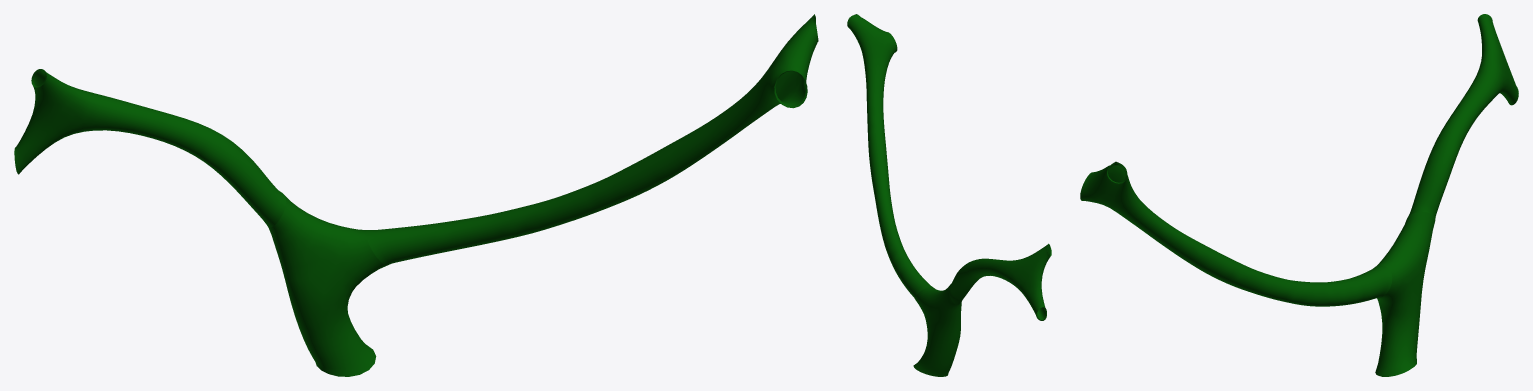
The model's file is VH_M_Ducts_of_Liver.fbx.
3 renders of one model, left to right at view 1: azimuth 30°, elevation 25°; view 2: azimuth 150°, elevation 25°; view 3: azimuth 270°, elevation 25°, orthographic. The views are drawn at different scales.
Parts seen in each view (by area): view 1: VH_M_left_hepatic_duct, VH_M_common_hepatic_duct, VH_M_right_hepatic_duct; view 2: VH_M_left_hepatic_duct, VH_M_right_hepatic_duct, VH_M_common_hepatic_duct; view 3: VH_M_left_hepatic_duct, VH_M_common_hepatic_duct, VH_M_right_hepatic_duct.
Part boxes in pixels (left/top/right/bottom): VH_M_left_hepatic_duct: left=366, top=14, right=818, bottom=265; VH_M_common_hepatic_duct: left=268, top=194, right=386, bottom=376; VH_M_right_hepatic_duct: left=14, top=69, right=286, bottom=227; VH_M_left_hepatic_duct: left=847, top=14, right=932, bottom=299; VH_M_right_hepatic_duct: left=948, top=243, right=1051, bottom=320; VH_M_common_hepatic_duct: left=913, top=286, right=961, bottom=376; VH_M_left_hepatic_duct: left=1080, top=161, right=1392, bottom=306; VH_M_common_hepatic_duct: left=1375, top=212, right=1434, bottom=376; VH_M_right_hepatic_duct: left=1408, top=14, right=1518, bottom=220.
Bounding box in the file's own units: 4.48 × 3.05 × 3.69.
